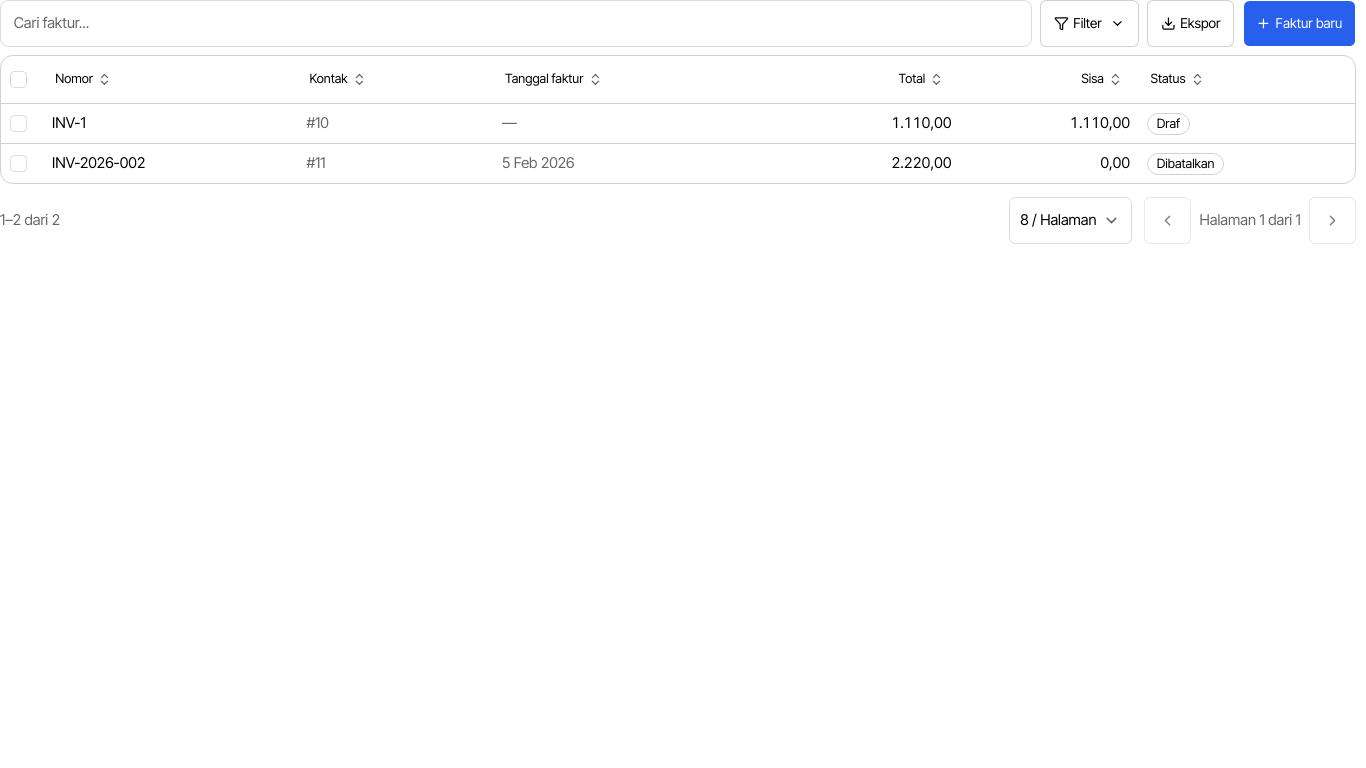
Test: InvoicesSection extra2 › adds and removes invoice lines in the create dialog
Expected: the link "INV-2026-002" is shown, [52,154,145,172]
Click the button "Faktur baru".
click(1299, 23)  # box [1243,0,1356,47]
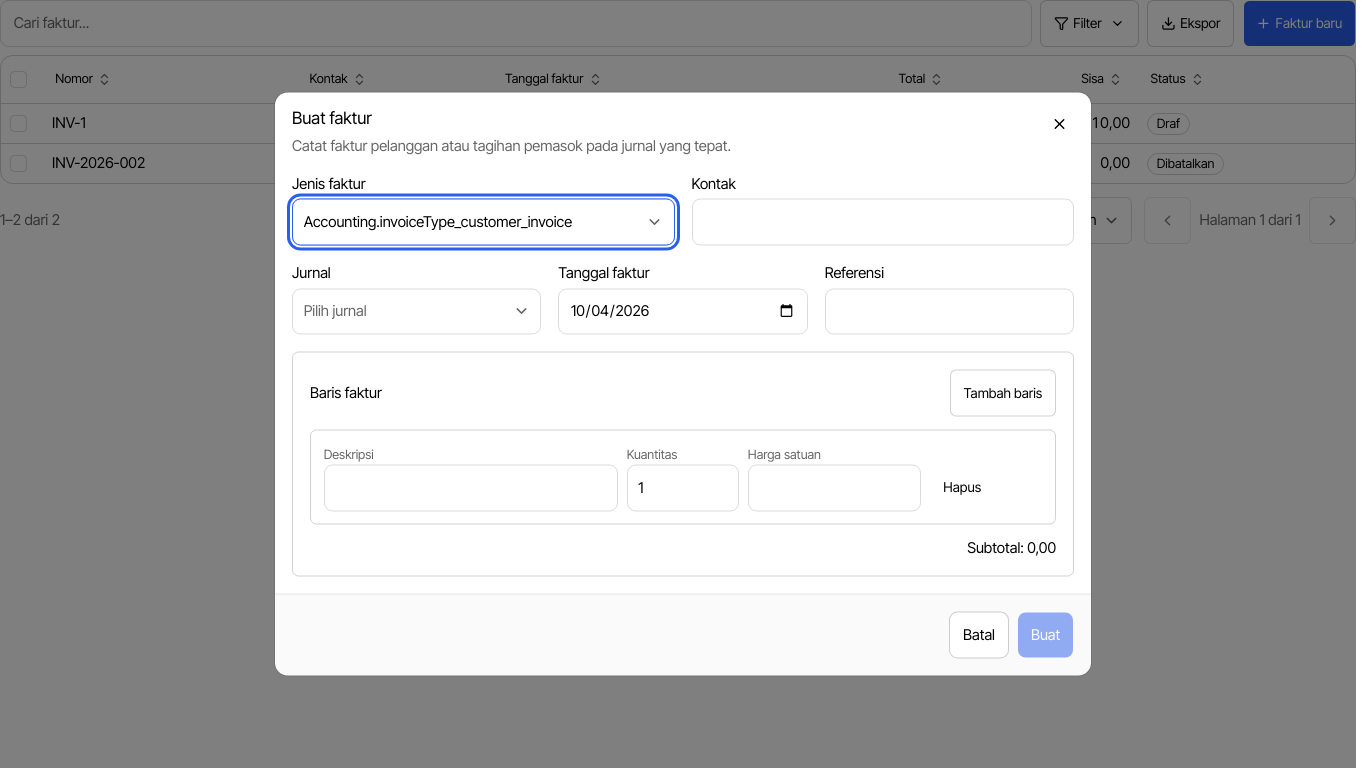
Click the button "Tambah baris".
click(1003, 393)  # box [950,370,1056,417]
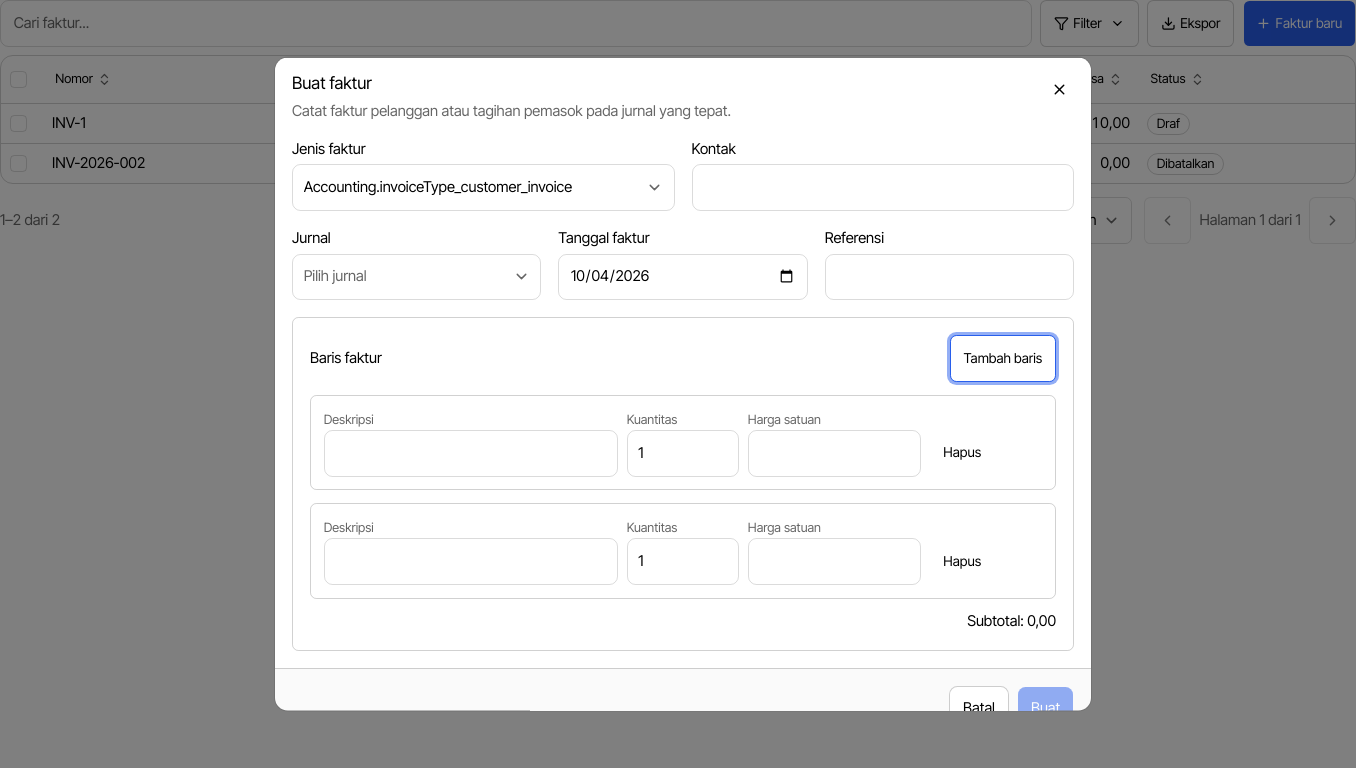
Result: the number of buttons "Hapus" is 2
Click the 1st button "Hapus".
click(962, 453)  # box [930,429,995,476]
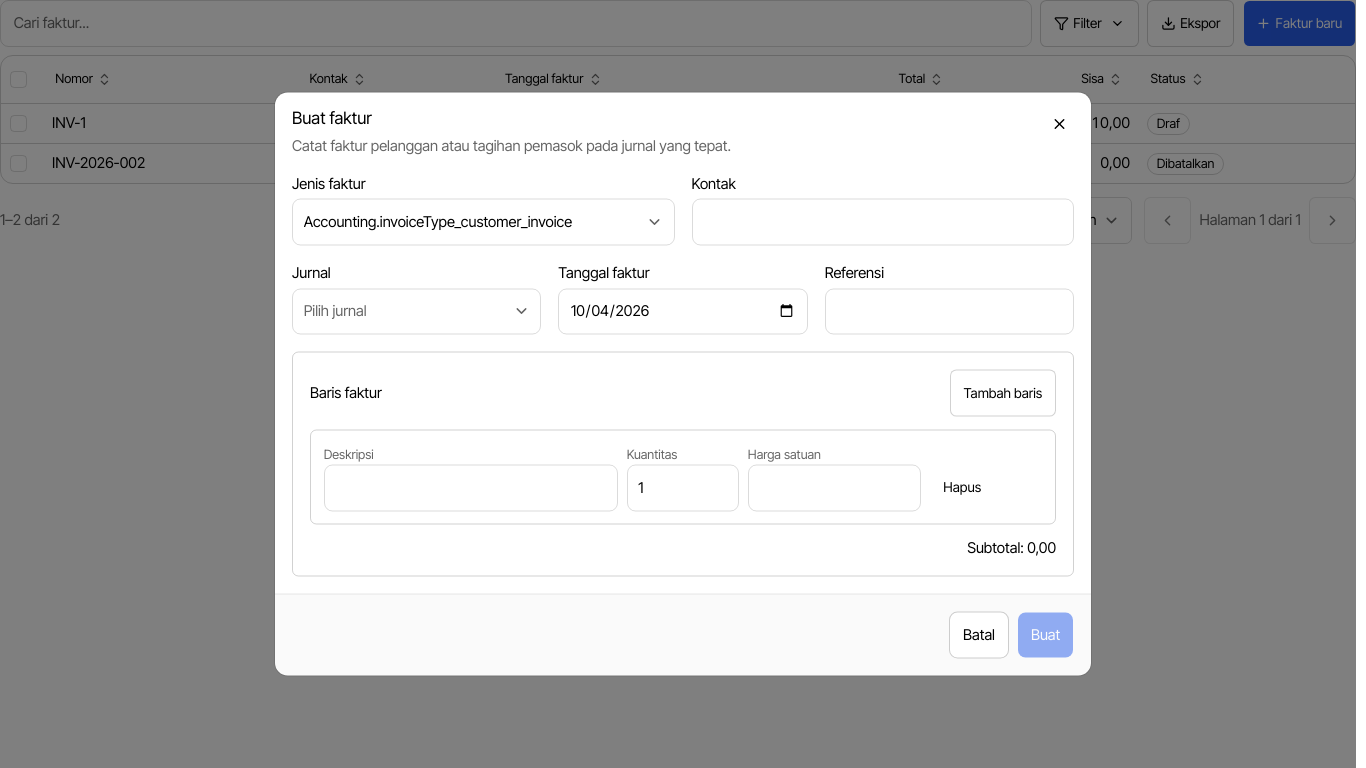
Result: the number of buttons "Hapus" is 1 at [930,464,995,511]
